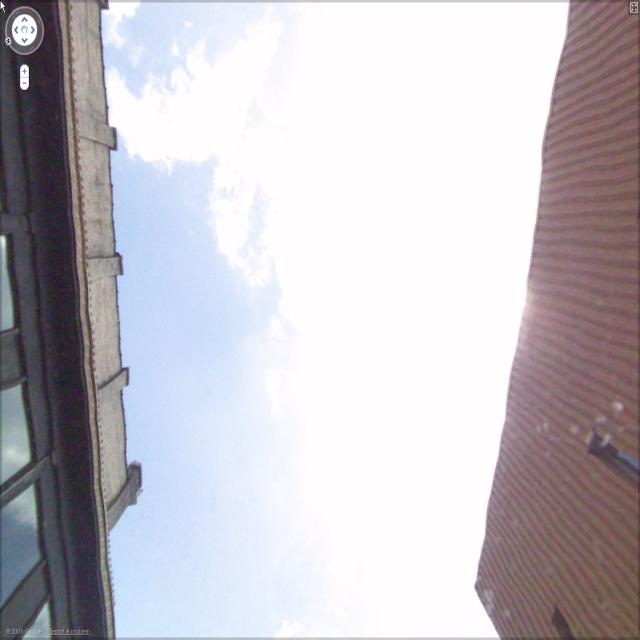b_1: (463, 50, 640, 583), (2, 1, 142, 617)
